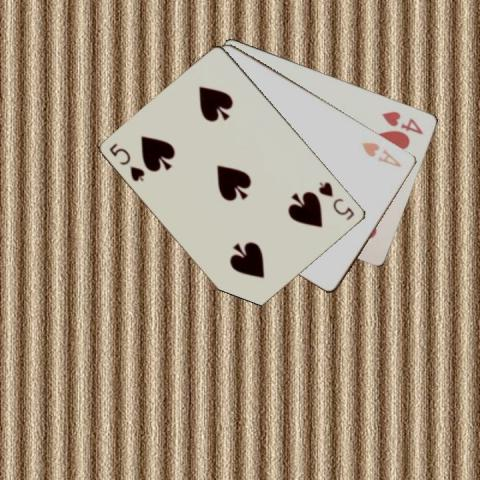4h: (379, 108, 426, 136)
5s: (316, 179, 356, 222), (107, 140, 146, 183)
Ah: (359, 138, 403, 168)
